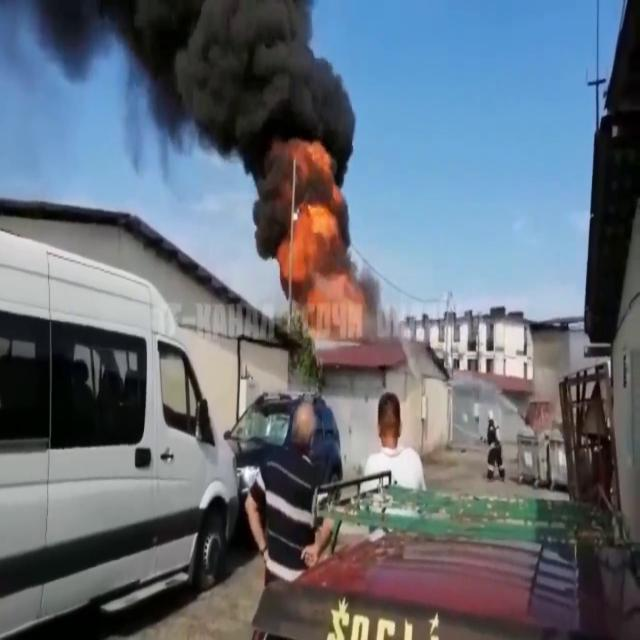Fire: (276, 146, 358, 305)
Smoke: (138, 0, 356, 243)
